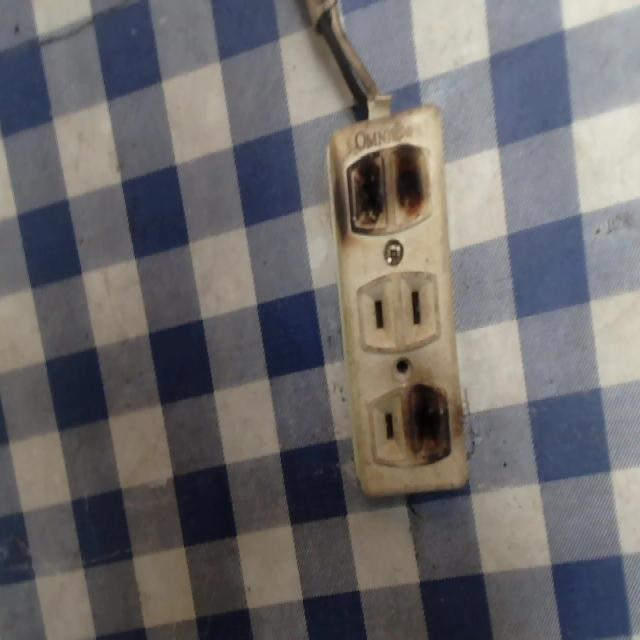-: (332, 135, 435, 241), (395, 375, 461, 469)
